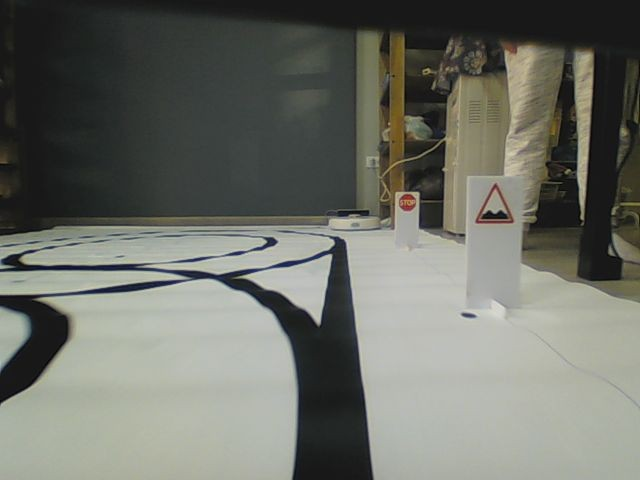Nerov: (473, 181, 515, 225)
Stop: (397, 193, 417, 212)
